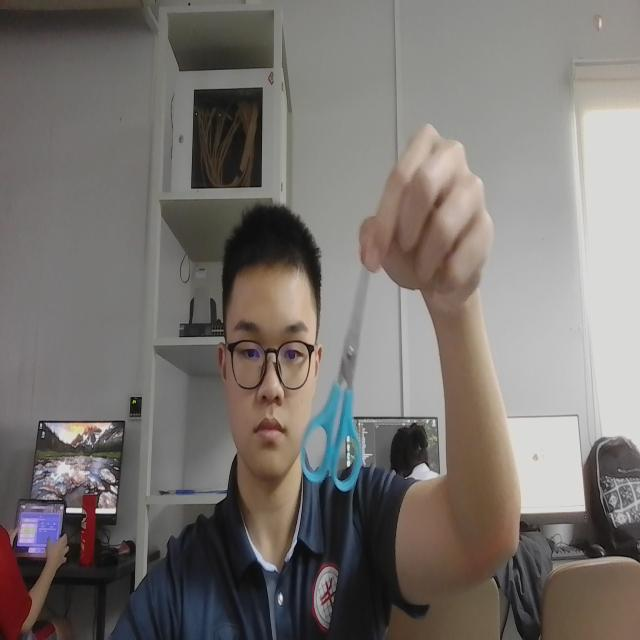scissors: (292, 248, 375, 499)
